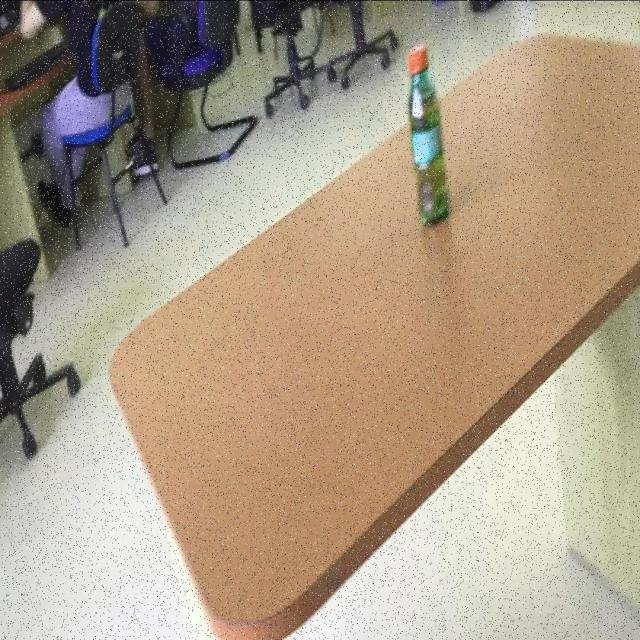Guarana: (406, 41, 449, 226)
